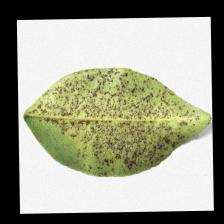canker: (56, 77, 164, 155)
